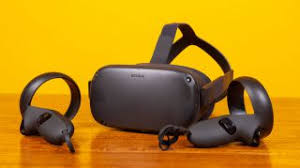oculus: (86, 64, 213, 133)
